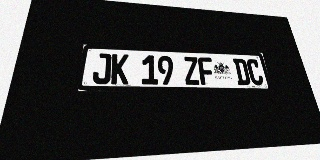1: (141, 55, 158, 85)
9: (157, 56, 174, 85)
C: (246, 59, 264, 85)
D: (233, 58, 251, 85)
F: (197, 57, 215, 85)
J: (92, 53, 112, 84)
K: (111, 54, 129, 84)
Z: (183, 57, 200, 85)
